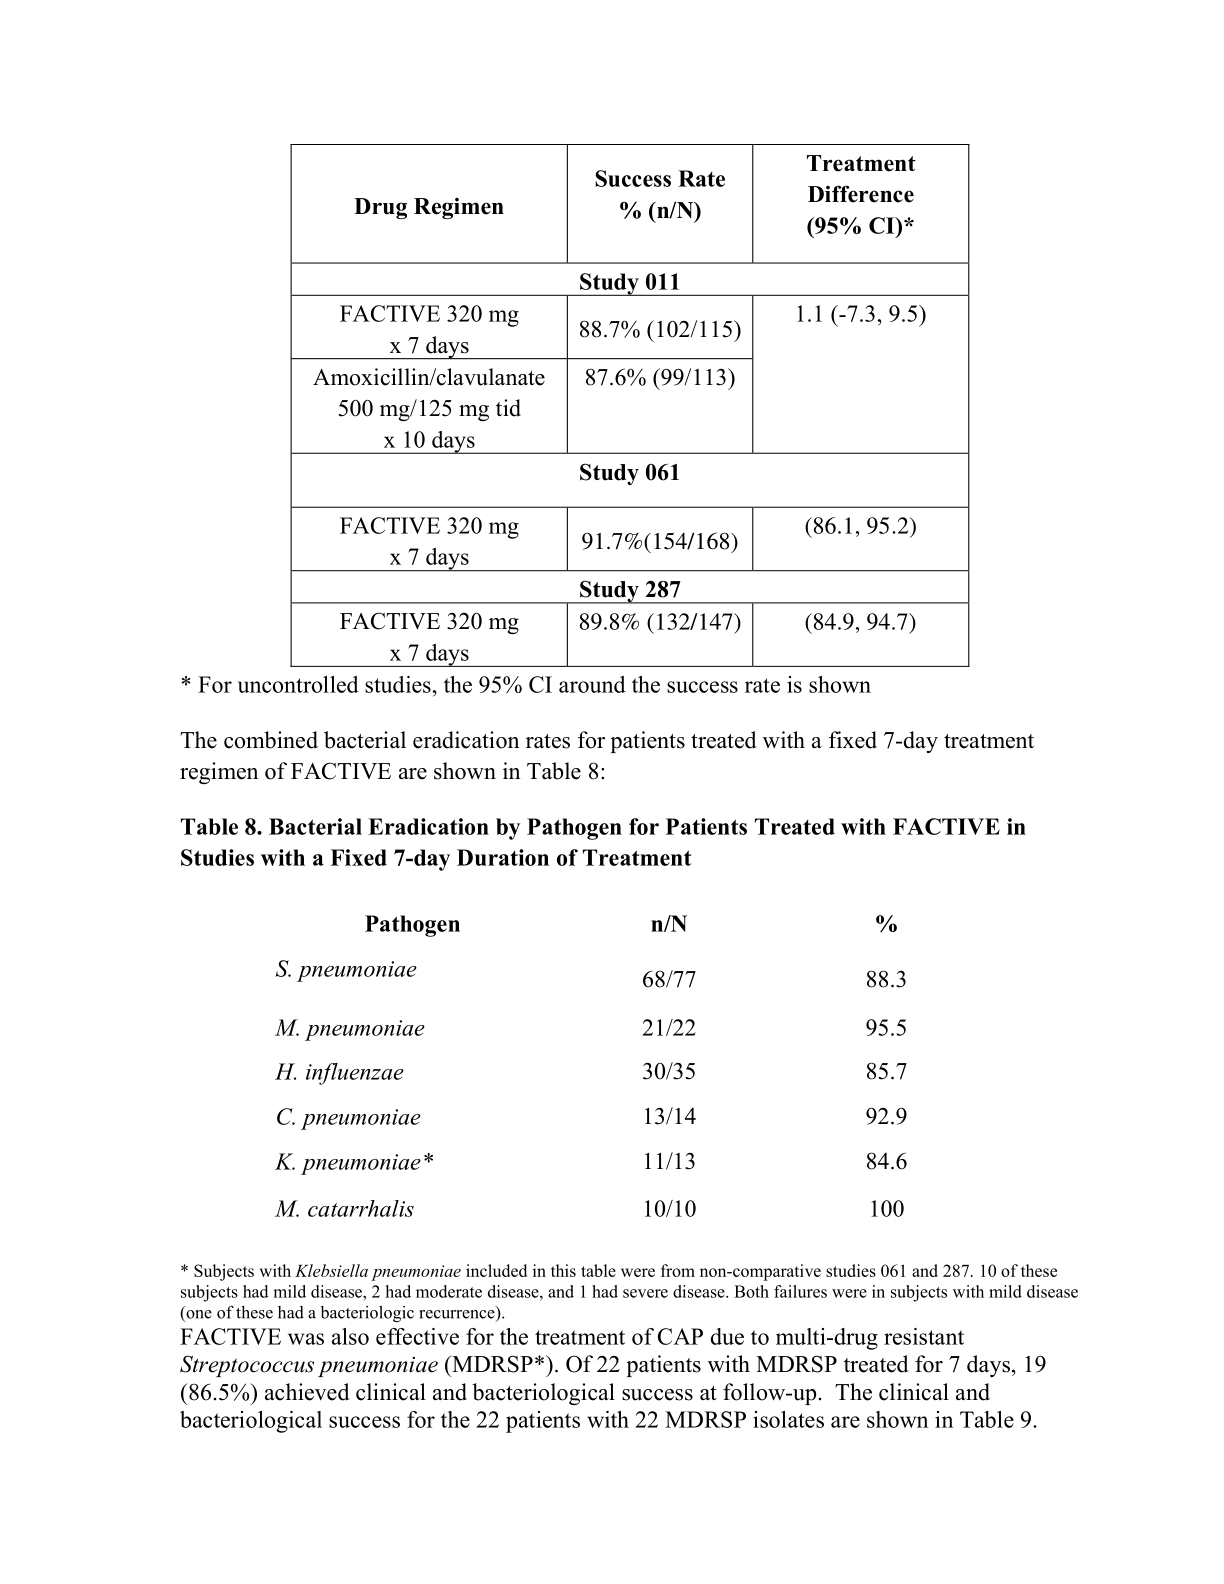merged_cells: (291, 141, 969, 669)
nolines: (270, 912, 910, 1223)
